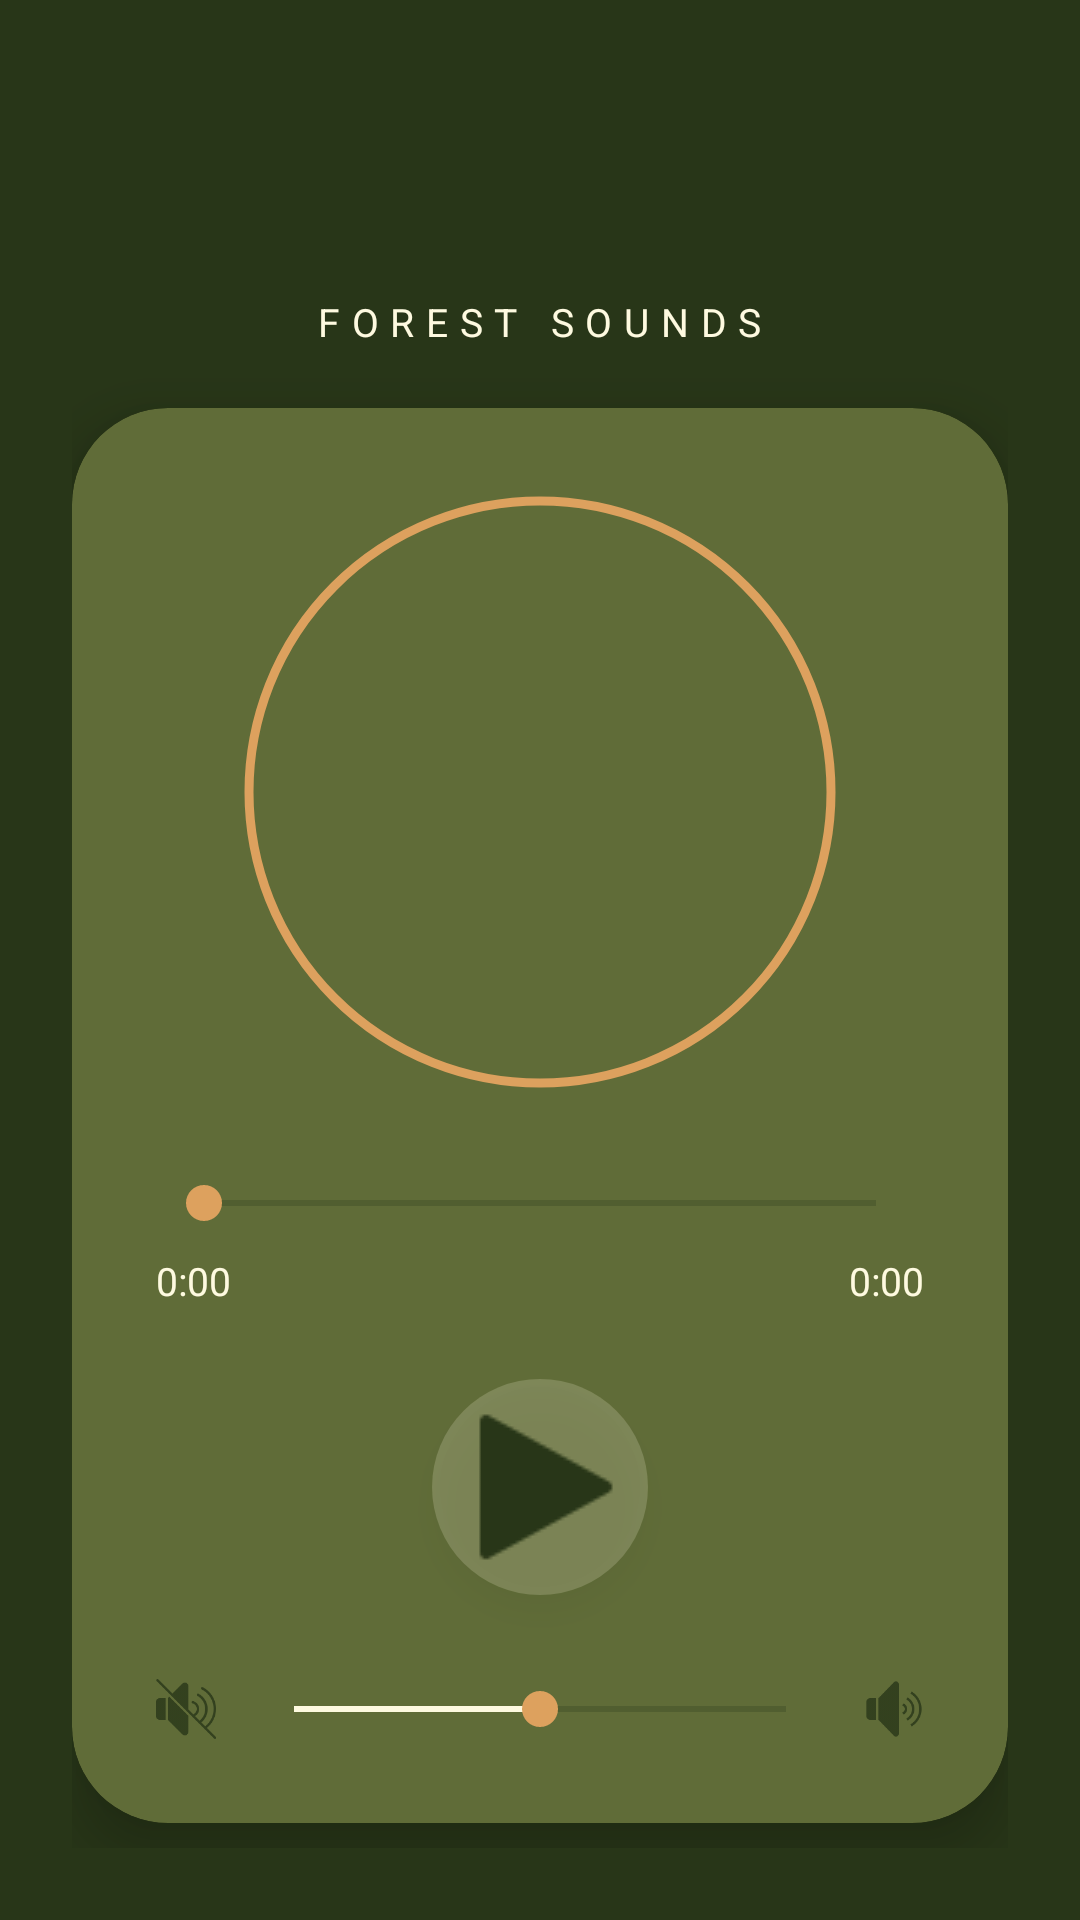

Icons on this 1080px x 1920px Android screen, each with the point to tap as (x,y):
play: (540,1487)
sound: (186,1709), (894,1709)
